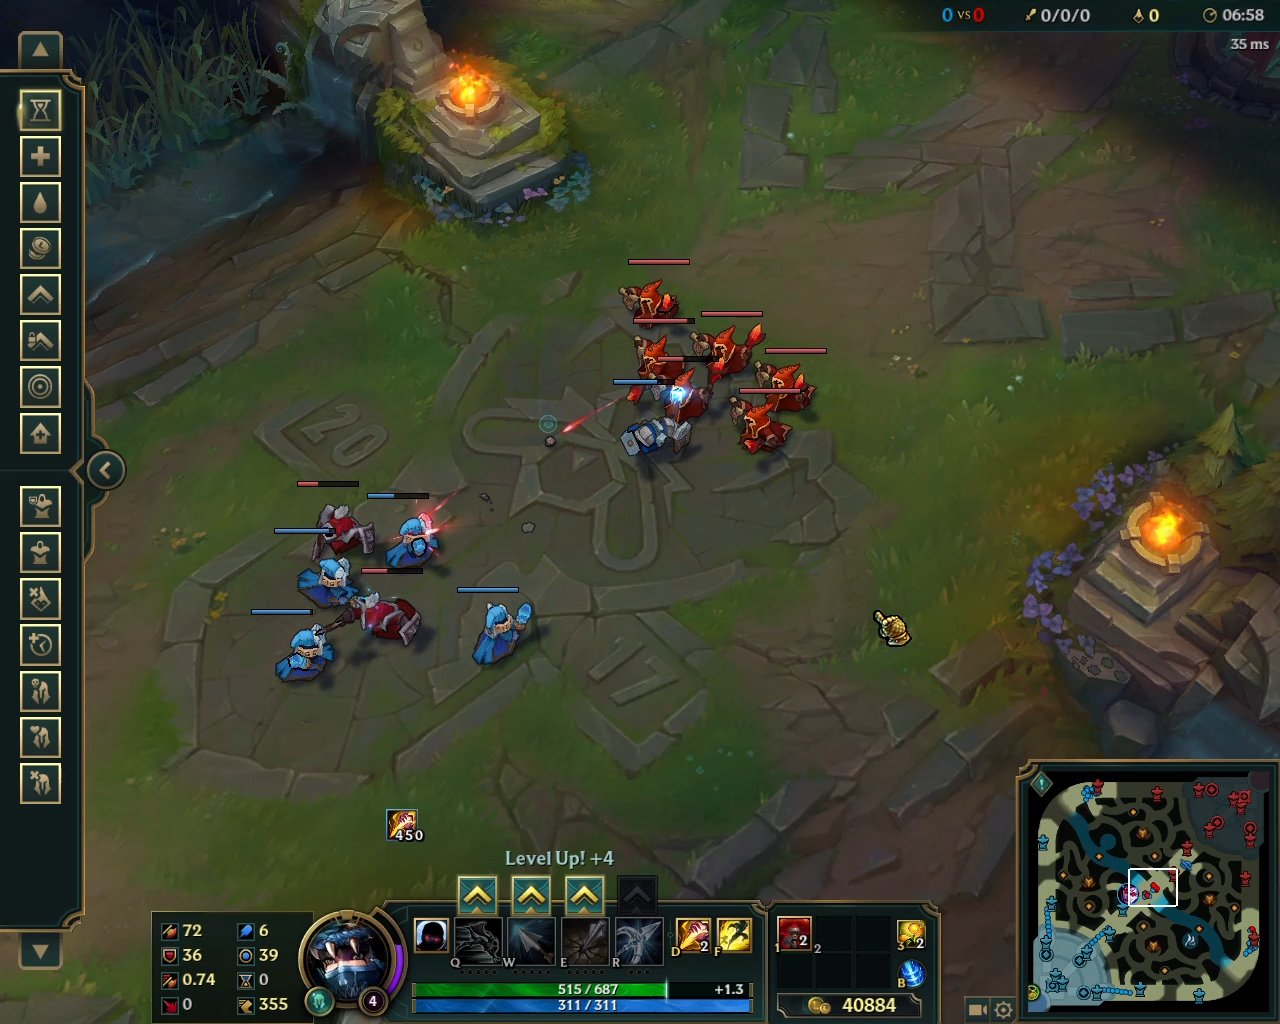EnemyMinion: (294, 478, 379, 566), (348, 566, 424, 650), (624, 317, 694, 403), (724, 387, 802, 462), (685, 312, 766, 386), (612, 259, 690, 332), (751, 346, 831, 415), (652, 355, 726, 424)
